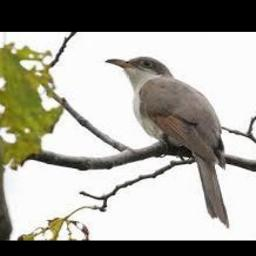Cuckoo: (105, 56, 229, 227)
